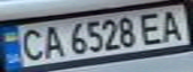2: (100, 16, 124, 51)
5: (84, 18, 106, 54)
6: (66, 19, 87, 55)
8: (115, 15, 142, 48)
A: (157, 7, 187, 43), (39, 22, 66, 60)
C: (15, 26, 48, 62)
E: (136, 10, 169, 46)
